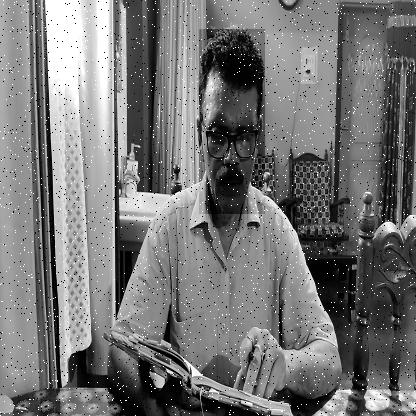Normal: (199, 29, 265, 214)
